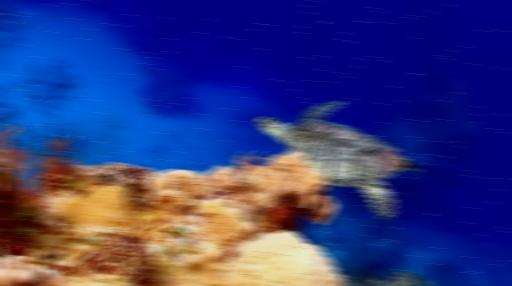Fish: (255, 101, 418, 219)
